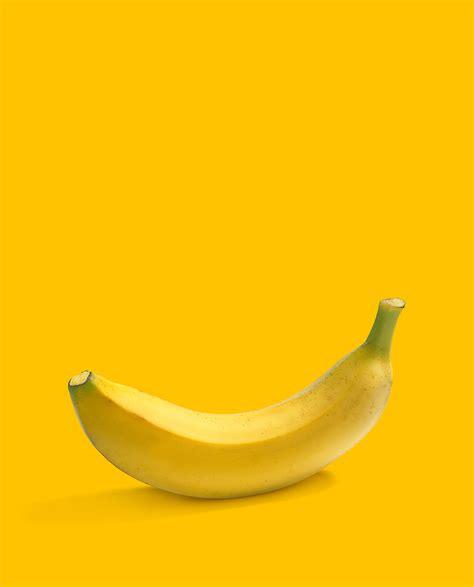banana: (63, 339, 402, 502)
